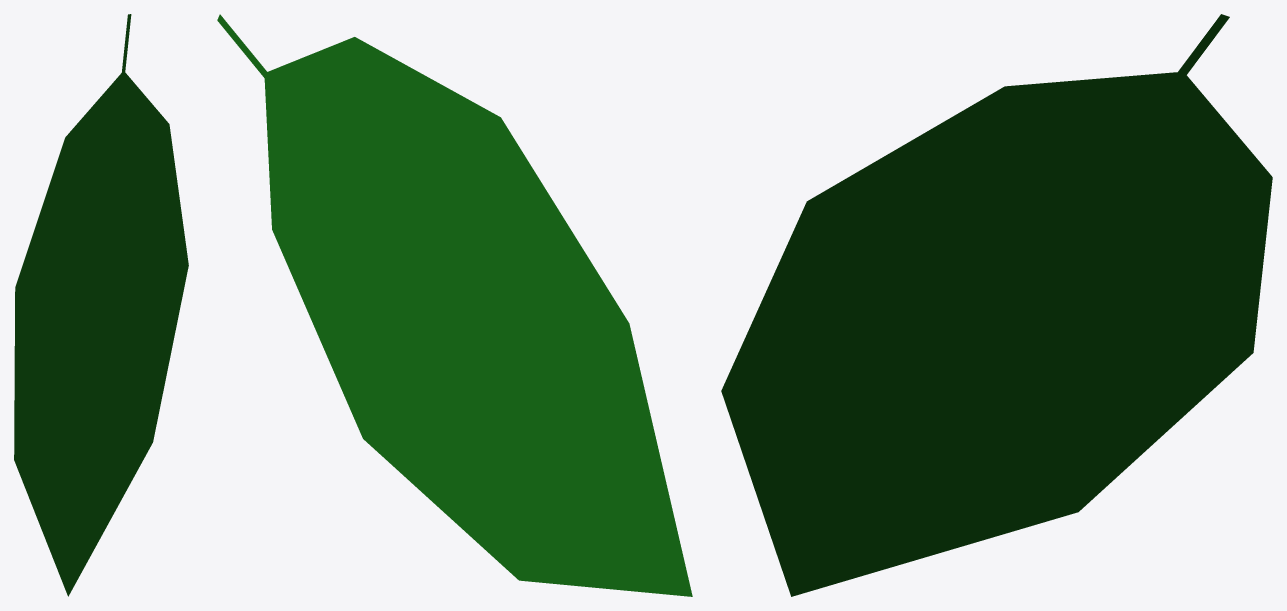
The model's file is Leaves.072.obj.
3 renders of one model, left to right at view 1: azimuth 30°, elevation 25°; view 2: azimuth 150°, elevation 25°; view 3: azimuth 270°, elevation 25°, orthographic. The views are drawn at different scales.
Visible parts, largest first — view 1: Leaves.072_leaves.072; view 2: Leaves.072_leaves.072; view 3: Leaves.072_leaves.072.
Part boxes in pixels (<box>): Leaves.072_leaves.072: <box>14,14,188,596</box>; Leaves.072_leaves.072: <box>217,14,692,596</box>; Leaves.072_leaves.072: <box>721,14,1272,596</box>.
Size of the model in its own units: 0.0559 by 0.1232 by 0.0833.
